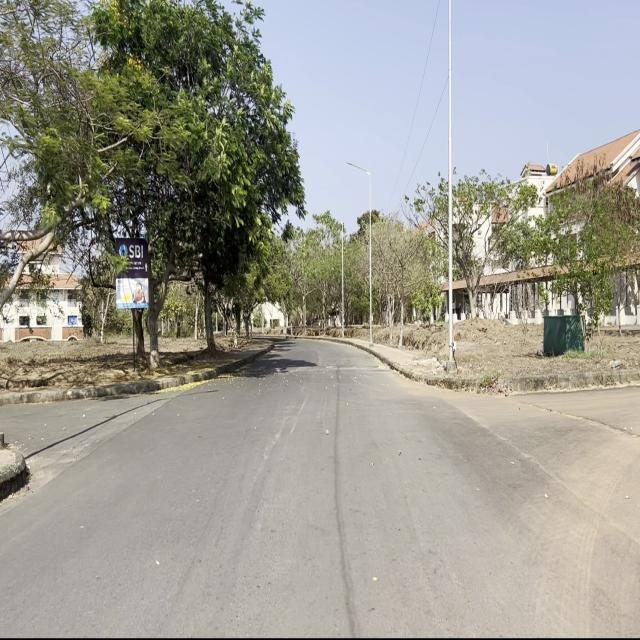Road: (5, 334, 636, 632)
